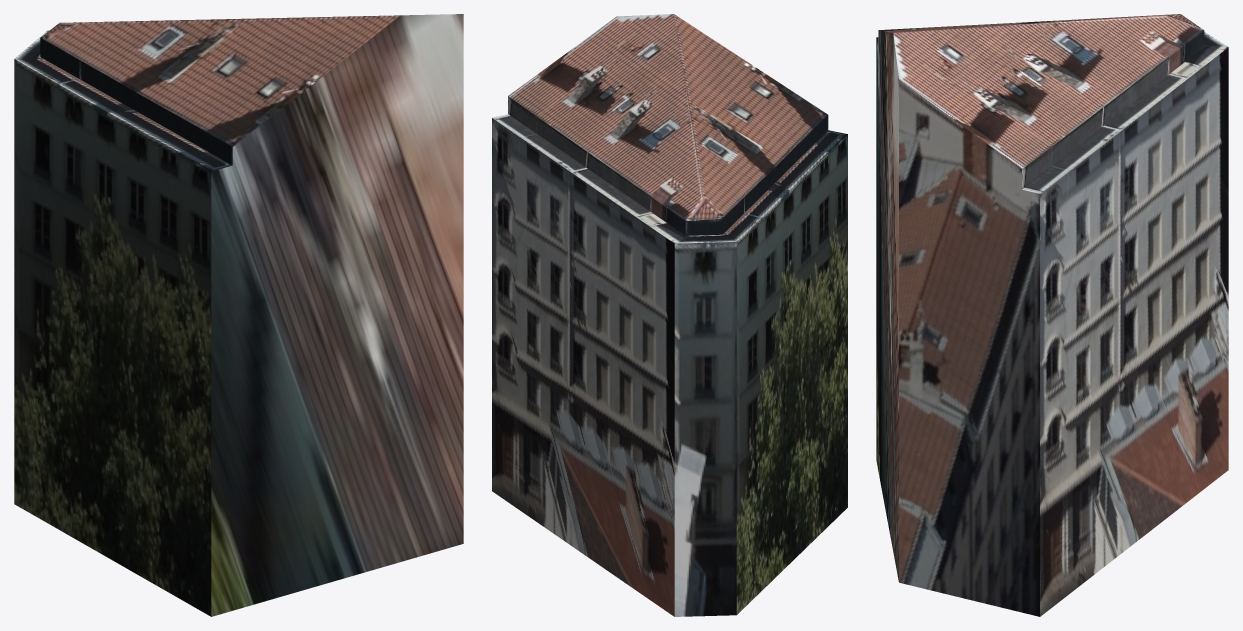
3 views of the same model, side by side, from view 1: azimuth 30°, elevation 25°; view 2: azimuth 150°, elevation 25°; view 3: azimuth 270°, elevation 25° (orthographic). The views are drawn at different scales.
Parts seen in each view (by area): view 1: Z_UP; view 2: Z_UP; view 3: Z_UP.
Part boxes in pixels (x1,y1,x2,y2): Z_UP: (14, 14, 463, 616); Z_UP: (492, 14, 847, 616); Z_UP: (876, 14, 1228, 616).
Bounding box in the file's own units: 18.7 × 26.37 × 16.21.
2 materials, 1 textured.
